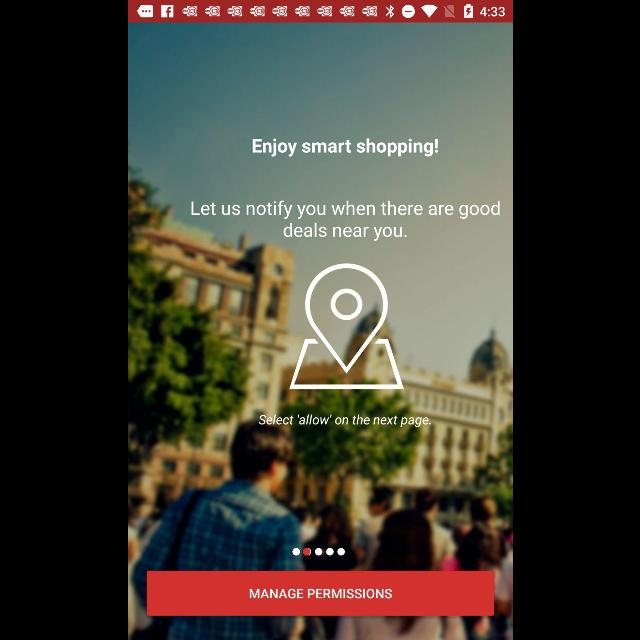backgroundimage: (128, 22, 512, 640)
image: (288, 264, 404, 390)
pageindicator: (292, 548, 344, 556)
text: (190, 200, 500, 242), (252, 138, 438, 158), (258, 414, 430, 428)
textbutton: (146, 570, 494, 616)
uppertaskbar: (128, 1, 512, 23)
